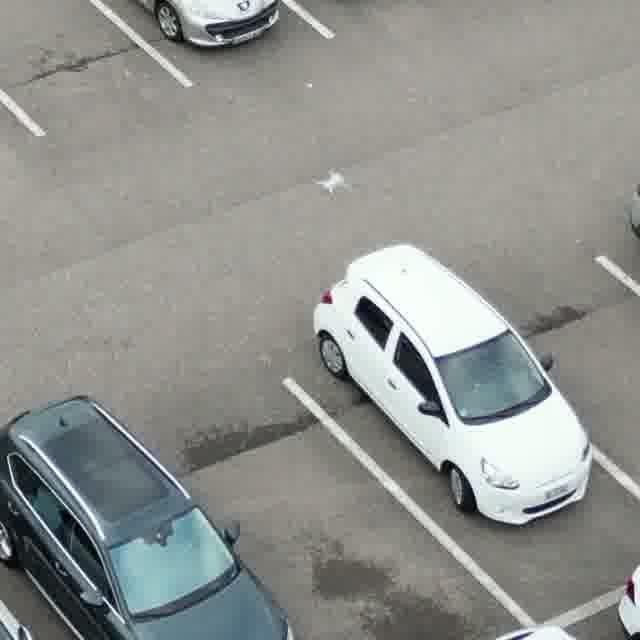Drohne: (315, 170, 350, 193)
